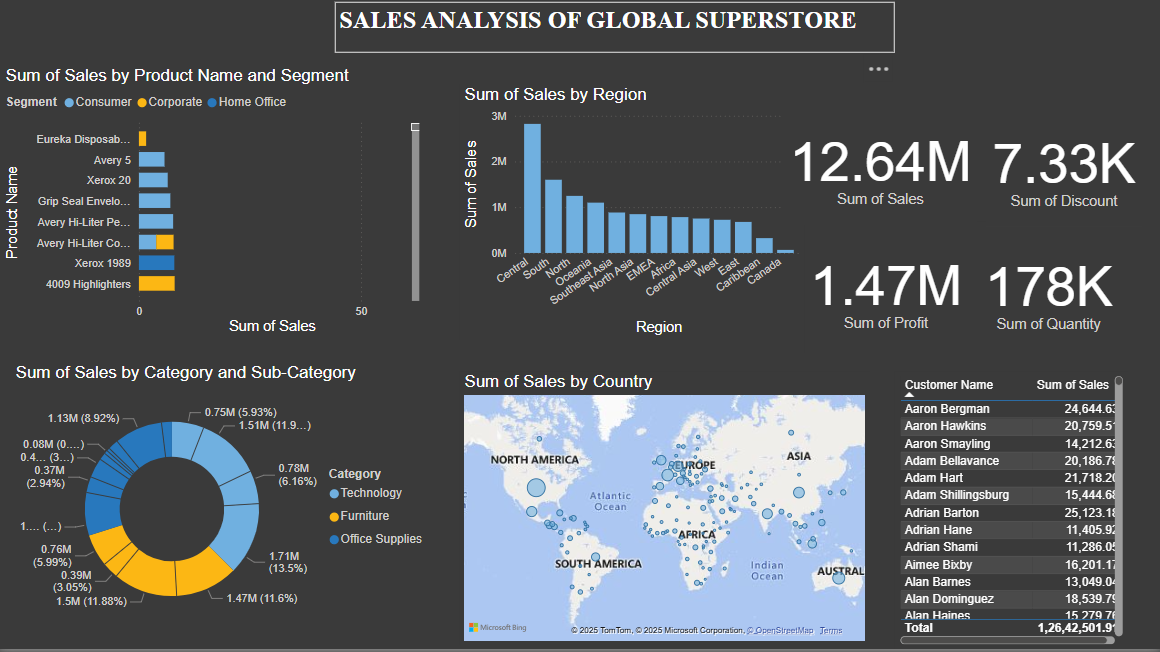

The page's visual inventory and layout, read from the dashboard file:
{"tool":"powerbi","page":{"name":"Page 1","canvas":[1280,720],"ordinal":0},"visuals":[{"type":"columnChart","fields":{"Category":["Global-Superstore.Region"],"Y":["Global-Superstore.Sales"]},"box":[508.6,100,381.4,280],"z":0},{"type":"map","fields":{"Category":["Global-Superstore.Country"],"Size":["Global-Superstore.Sales"]},"box":[508.6,415.7,450,300],"z":1000},{"type":"donutChart","fields":{"Category":["Global-Superstore.Category"],"Series":["Global-Superstore.Sub-Category"],"Y":["Global-Superstore.Sales"]},"box":[17.1,405.7,465.7,300],"z":2000},{"type":"barChart","fields":{"Category":["Global-Superstore.Product Name"],"Series":["Global-Superstore.Segment"],"Y":["Global-Superstore.Sales"]},"box":[5.7,80,464.3,300],"z":3000},{"type":"tableEx","fields":{"Values":["Global-Superstore.Customer Name","Global-Superstore.Sales"]},"box":[987.1,415.7,255.7,304.3],"z":4000},{"type":"card","fields":{"Values":["Global-Superstore.Profit"]},"box":[887.1,255.7,178.6,140],"z":5000},{"type":"card","fields":{"Values":["Global-Superstore.Sales"]},"box":[864.3,125.7,212.9,125.7],"z":6000},{"type":"card","fields":{"Values":["Global-Superstore.Quantity"]},"box":[1077.1,251.4,157.1,150],"z":7000},{"type":"card","fields":{"Values":["Global-Superstore.Discount"]},"box":[1087.1,125.7,171.4,130],"z":8000},{"type":"textbox","box":[371.4,10,615.7,55.7],"z":9000}]}

Visuals, with their boxes in screenshot pixels (x1, y1, x2, y2), scaled from the page's 1280x720 canvas onto the 1160x652 screenshot:
columnChart - Global-Superstore.Region x Global-Superstore.Sales: box=[461, 91, 807, 344]
map - Global-Superstore.Country x Global-Superstore.Sales: box=[461, 376, 869, 648]
donutChart - Global-Superstore.Category x Global-Superstore.Sub-Category: box=[15, 367, 438, 639]
barChart - Global-Superstore.Product Name x Global-Superstore.Segment: box=[5, 72, 426, 344]
tableEx - Global-Superstore.Customer Name x Global-Superstore.Sales: box=[895, 376, 1126, 651]
card - Global-Superstore.Profit: box=[804, 232, 966, 358]
card - Global-Superstore.Sales: box=[783, 114, 976, 228]
card - Global-Superstore.Quantity: box=[976, 228, 1118, 363]
card - Global-Superstore.Discount: box=[985, 114, 1141, 232]
textbox: box=[337, 9, 895, 59]
